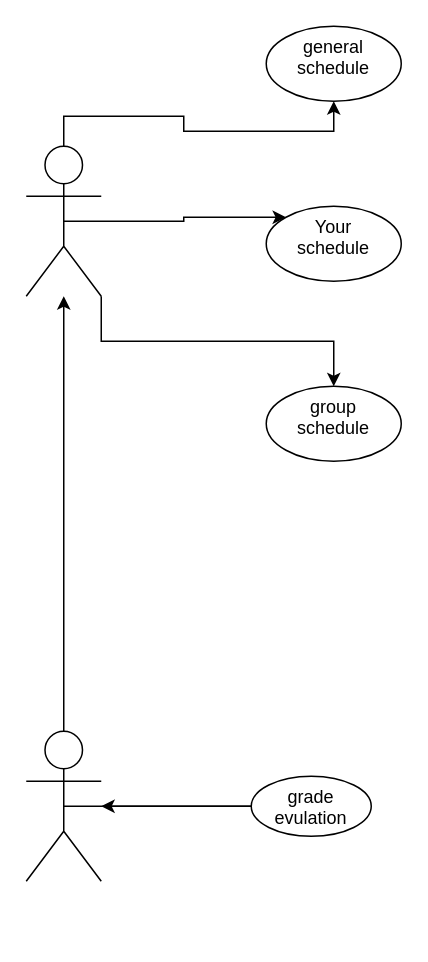
The diagram is 428 pixels wide and 962 high, and some of its shapes have lost their labels. The centre of each missing label's shape, as x and y in pixels:
"Student" belongs at (x=63, y=220).
"Teacher" belongs at (x=63, y=805).
